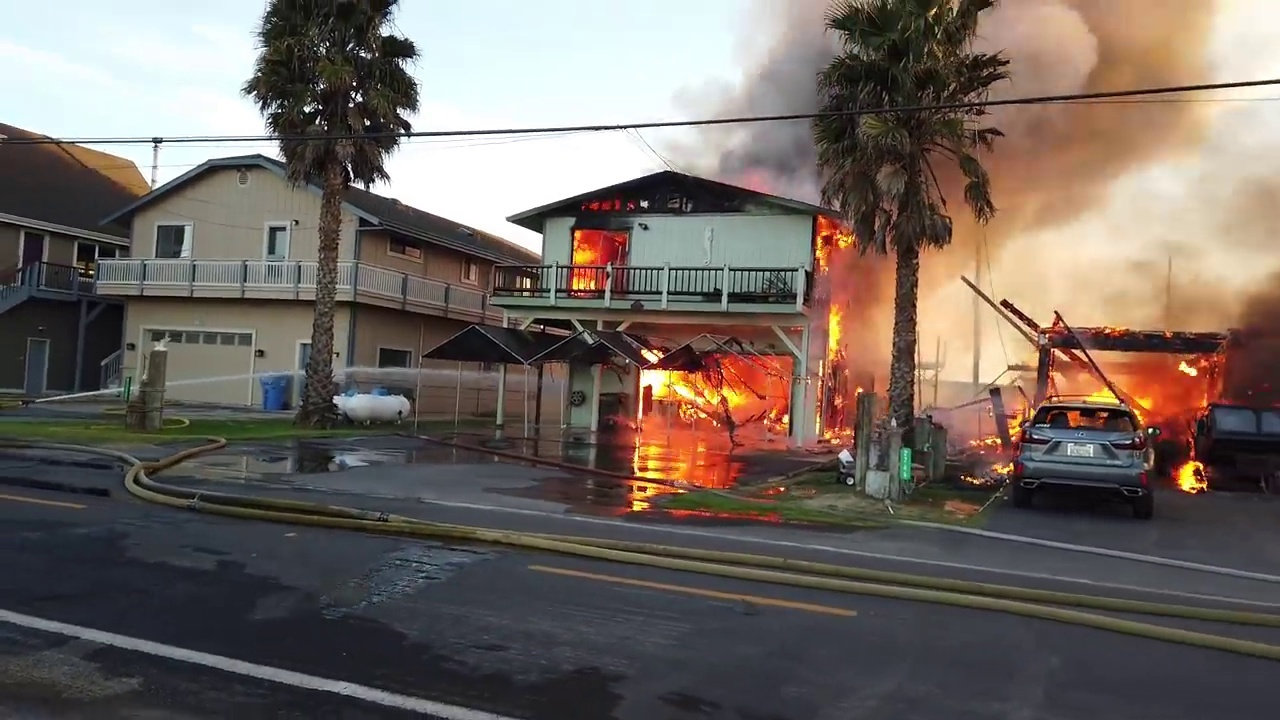fire: (564, 177, 649, 293), (824, 294, 847, 361), (1171, 458, 1209, 491), (1087, 385, 1120, 402), (1132, 392, 1154, 409), (1178, 356, 1197, 373), (991, 462, 1013, 475)
smoke: (993, 1, 1217, 330), (696, 1, 839, 195), (1216, 133, 1279, 396), (1133, 355, 1174, 391), (1174, 378, 1219, 403)
